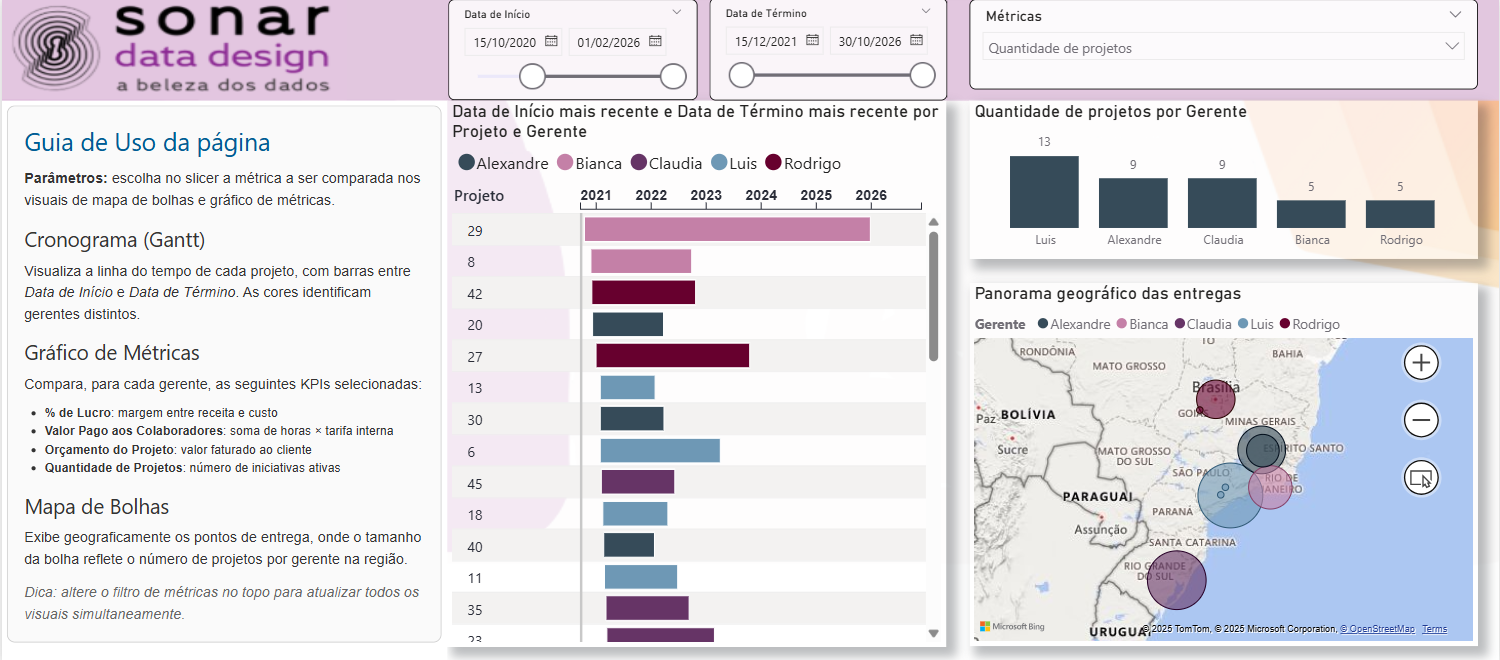

This screenshot's page, from the dashboard's own definition file:
{"tool":"powerbi","page":{"name":"Gestão Operacional","canvas":[1460,650],"ordinal":0},"visuals":[{"type":"map","title":"Panorama geográfico das entregas","fields":{"Size":["_TabelaDeMedidas.#soma de projetos"],"Category":["Cronograma.Cidade"],"Series":["Equipe.Gerente (1 hora por projeto)"]},"box":[943.6,278.2,496.1,354.8],"z":0},{"type":"slicer","fields":{"Values":["Parâmetro.Parâmetro"]},"box":[943.6,1.5,496.1,88.3],"z":1000},{"type":"powerBIGanttChartCertificationEDB15A648FAA4257A190BB4E1117FD","fields":{"yAxis":["Cronograma.Projeto"],"startDate":["Cronograma.Data de Início"],"endDate":["Cronograma.Data de Término"],"projectStatus":["Cronograma.Gerente"]},"box":[434.3,100.1,487.3,532.9],"z":2000},{"type":"clusteredColumnChart","fields":{"Y":["_TabelaDeMedidas.#soma de projetos"],"Category":["Cronograma.Gerente"]},"box":[943.6,100.1,496.1,154.6],"z":3000},{"type":"htmlContent443BE3AD55E043BF878BED274D3A6855","fields":{"content":["_TabelaDeMedidas._DescricaoVizHTML"]},"box":[0,100.1,434.3,550.6],"z":4000},{"type":"slicer","fields":{"Values":["Cronograma.Data de Início"]},"box":[435,1.7,243.3,98.3],"z":5000},{"type":"slicer","fields":{"Values":["Cronograma.Data de Término"]},"box":[690,0,231.7,100],"z":6000}]}

Visuals, with their boxes in screenshot pixels (x1, y1, x2, y2), scaled from the page's 1460x650 canvas onto the 1500x660 screenshot:
"Panorama geográfico das entregas" map: left=969, top=282, right=1479, bottom=643
slicer - Parâmetro.Parâmetro: left=969, top=2, right=1479, bottom=91
powerBIGanttChartCertificationEDB15A648FAA4257A190BB4E1117FD - Cronograma.Projeto x Cronograma.Data de Início: left=446, top=102, right=947, bottom=643
clusteredColumnChart - _TabelaDeMedidas.#soma de projetos x Cronograma.Gerente: left=969, top=102, right=1479, bottom=259
htmlContent443BE3AD55E043BF878BED274D3A6855 - _TabelaDeMedidas._DescricaoVizHTML: left=0, top=102, right=446, bottom=659
slicer - Cronograma.Data de Início: left=447, top=2, right=697, bottom=102
slicer - Cronograma.Data de Término: left=709, top=0, right=947, bottom=102
